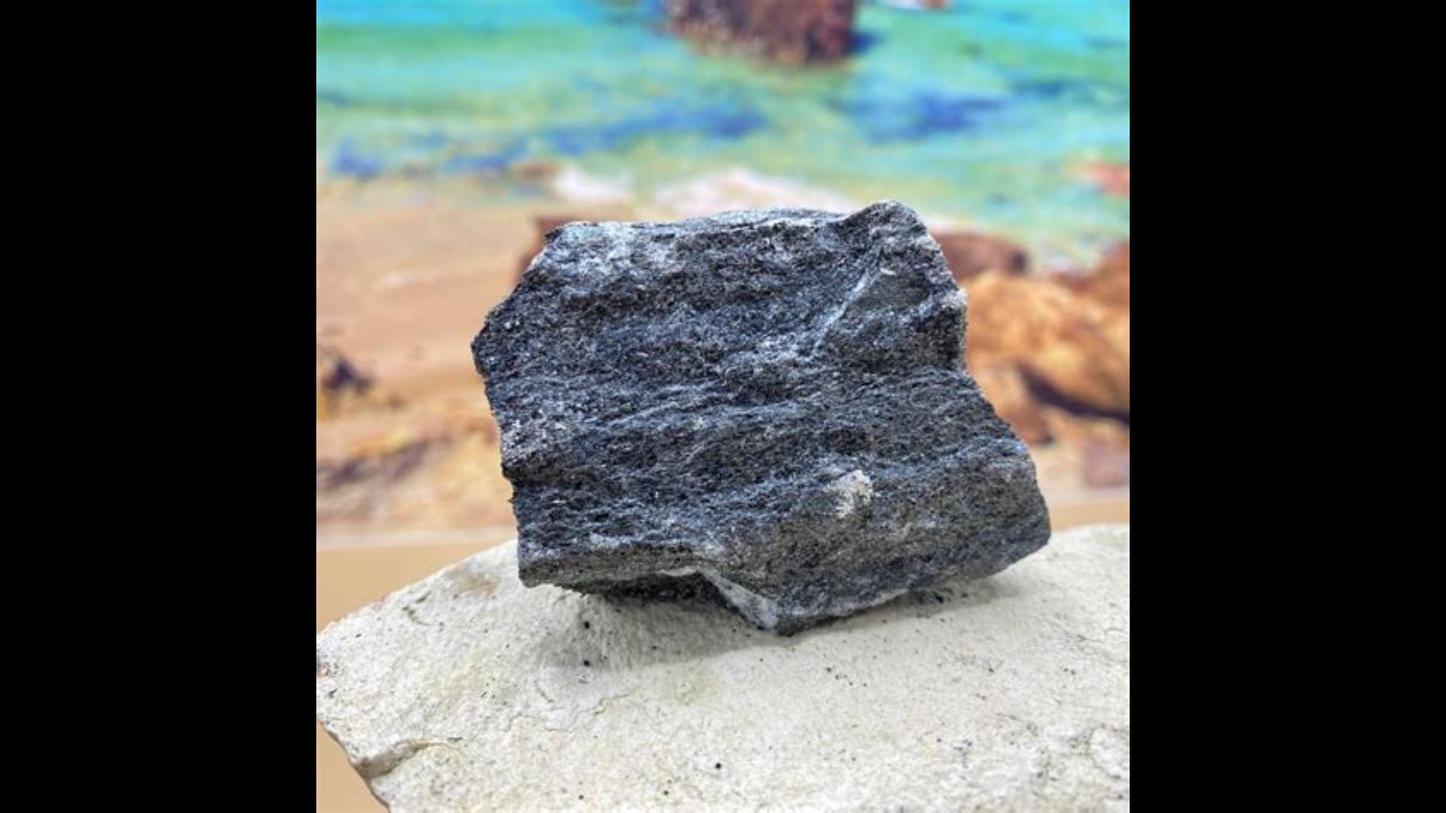rock: (472, 202, 1042, 629)
